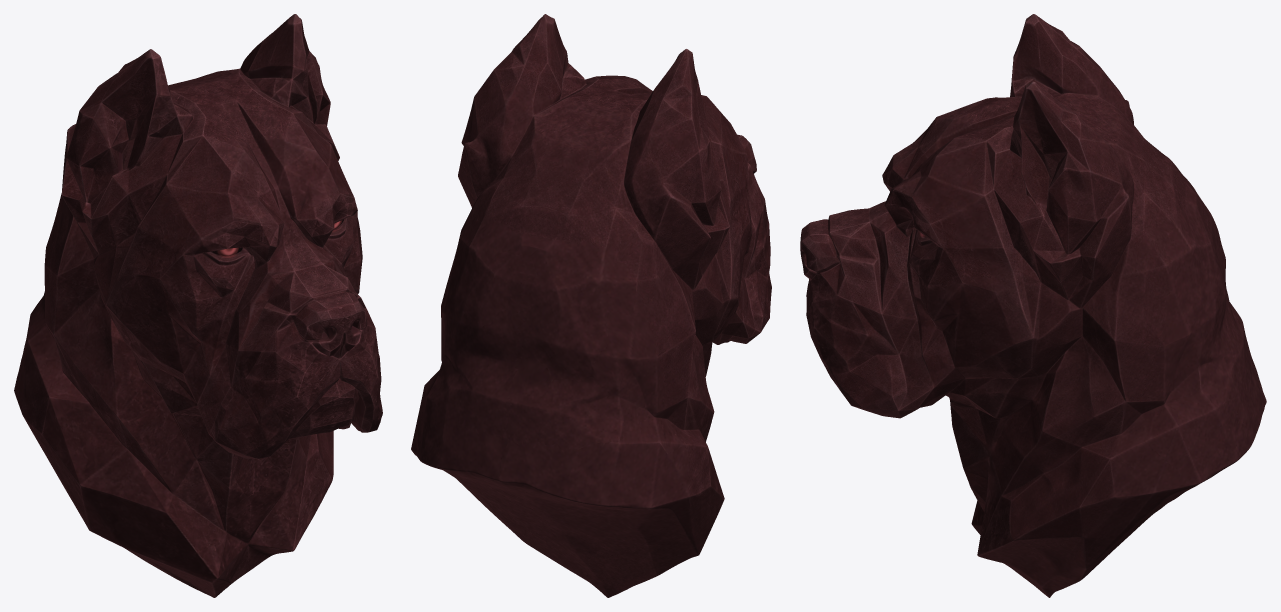
Rendered from dog_head.glb.
3 renders of one model, left to right at view 1: azimuth 30°, elevation 25°; view 2: azimuth 150°, elevation 25°; view 3: azimuth 270°, elevation 25°, orthographic. The views are drawn at different scales.
Bounding box in the file's own units: 0.9692 × 1.9 × 1.46.
1 material, 1 textured.
